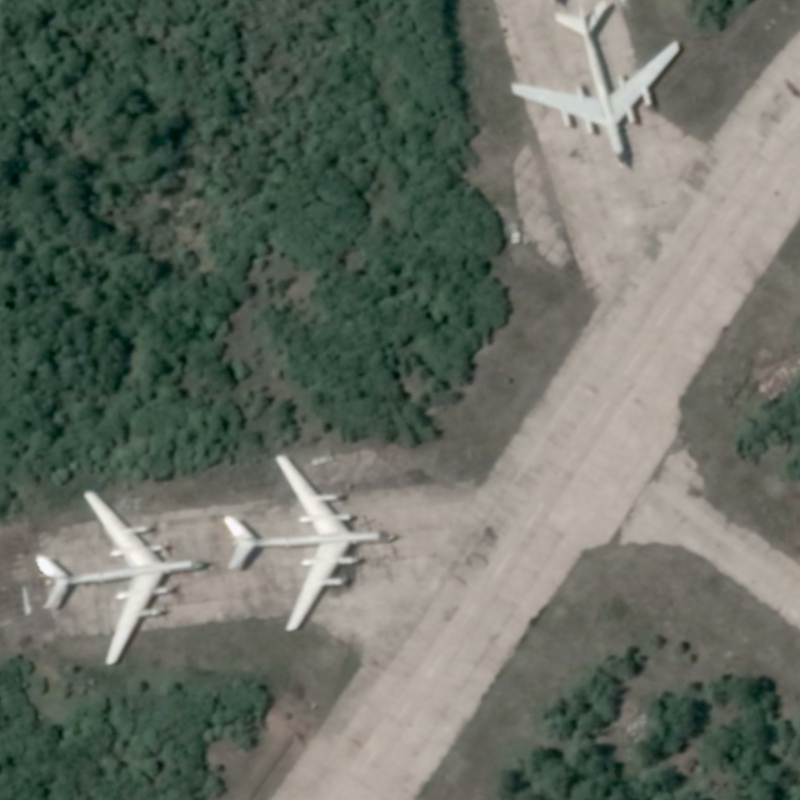A17: (219, 449, 410, 639), (29, 485, 216, 669), (506, 1, 684, 173)
